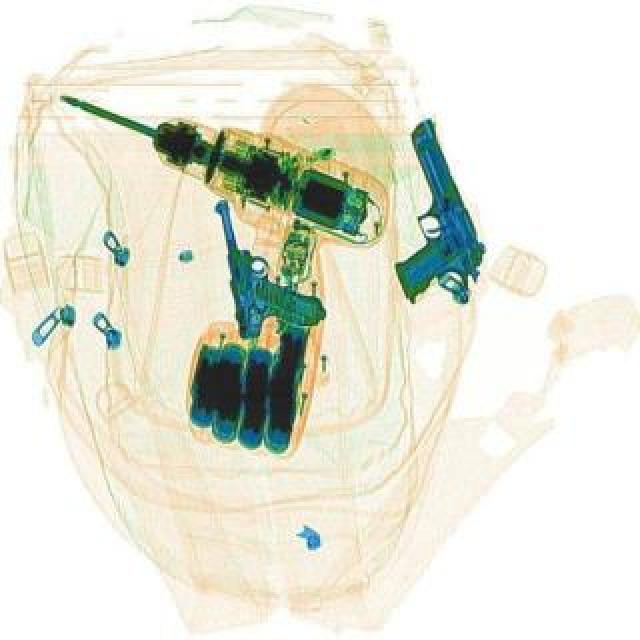gun: (346, 118, 498, 318), (210, 188, 328, 344)
